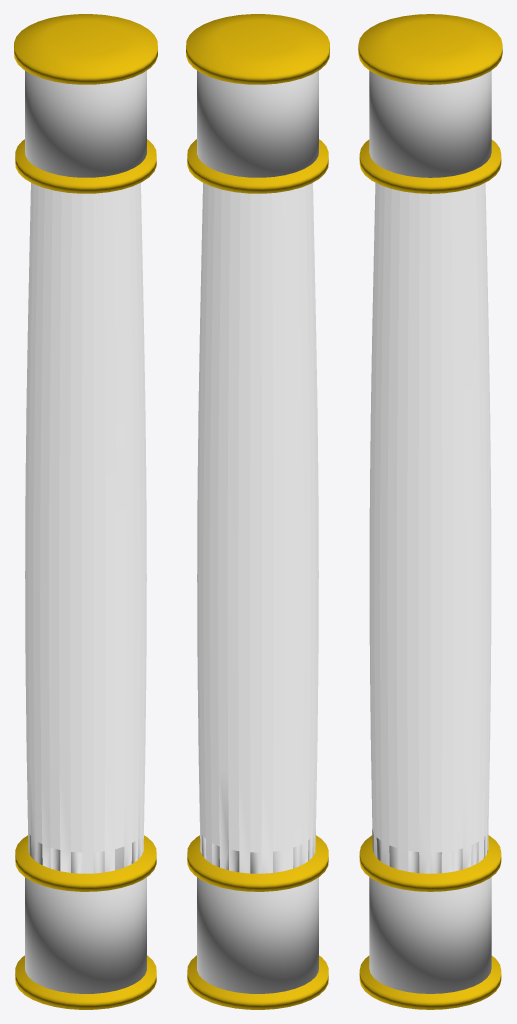
The model's file is Pillar.fbx.
3 renders of one model, left to right at view 1: azimuth 30°, elevation 25°; view 2: azimuth 150°, elevation 25°; view 3: azimuth 270°, elevation 25°, orthographic.
Parts seen in each view (by area): view 1: Pillar, Gold, TopSpacer; view 2: Pillar, Gold, TopSpacer; view 3: Pillar, Gold, TopSpacer.
Part boxes in pixels (left/top/right/bottom): Pillar: left=25, top=183, right=146, bottom=993; Gold: left=14, top=14, right=157, bottom=1009; TopSpacer: left=25, top=70, right=146, bottom=177; Pillar: left=197, top=183, right=318, bottom=993; Gold: left=186, top=14, right=329, bottom=1009; TopSpacer: left=197, top=70, right=318, bottom=177; Pillar: left=369, top=182, right=491, bottom=993; Gold: left=358, top=14, right=502, bottom=1009; TopSpacer: left=369, top=70, right=491, bottom=177.
Size of the model in its own units: 204 by 1480 by 204.
